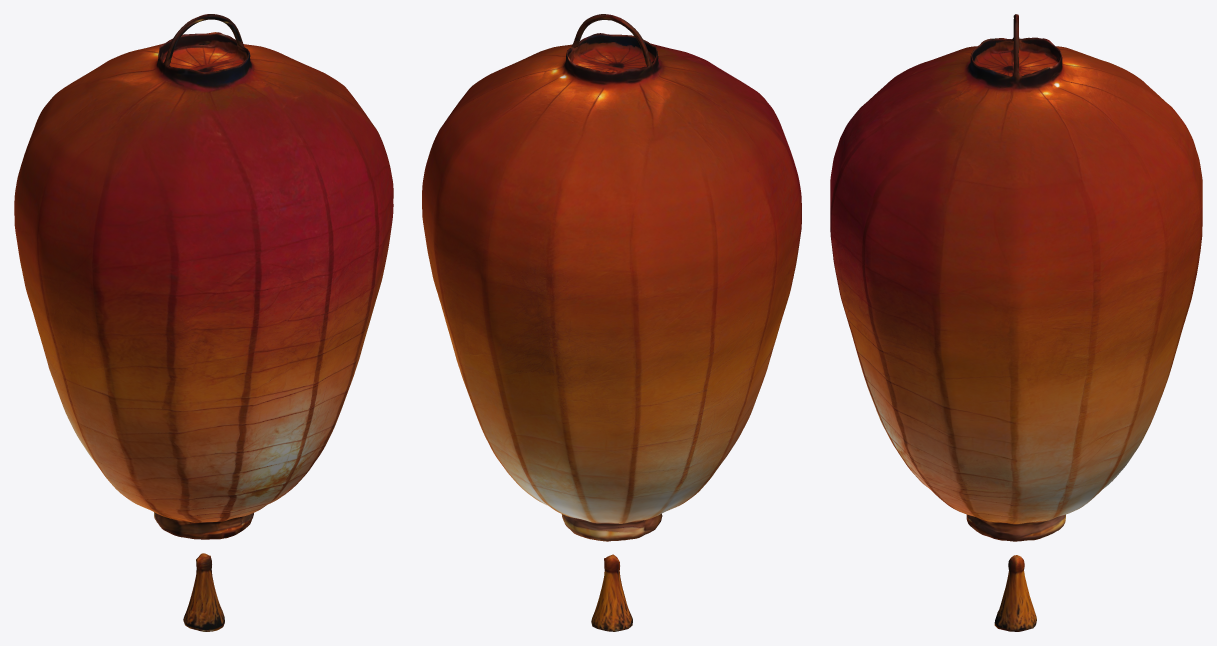
The model's file is lantern.glb.
The picture shows the model from 3 angles, left to right: view 1: azimuth 30°, elevation 25°; view 2: azimuth 150°, elevation 25°; view 3: azimuth 270°, elevation 25°; orthographic projection.
Bounding box in the file's own units: 1.13 × 1.99 × 1.11.
Materials: 1 (1 with a texture image).
